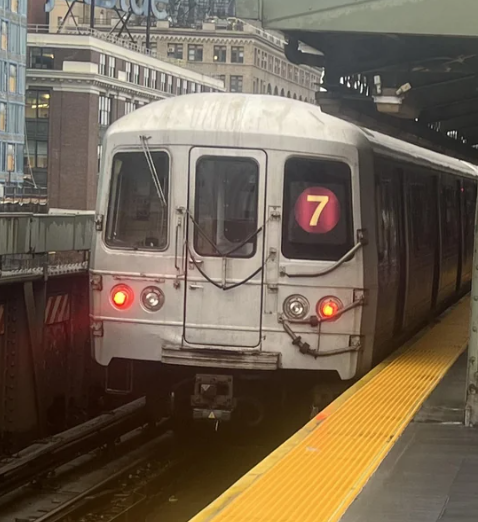train: (92, 94, 365, 364)
